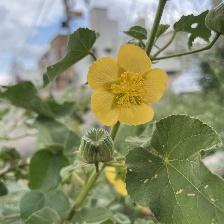indian mallow: (87, 42, 172, 128)
